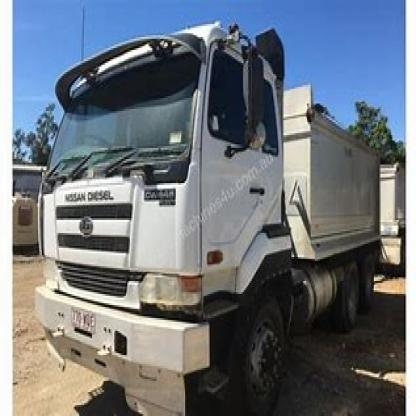dump_truck: (41, 44, 382, 408)
